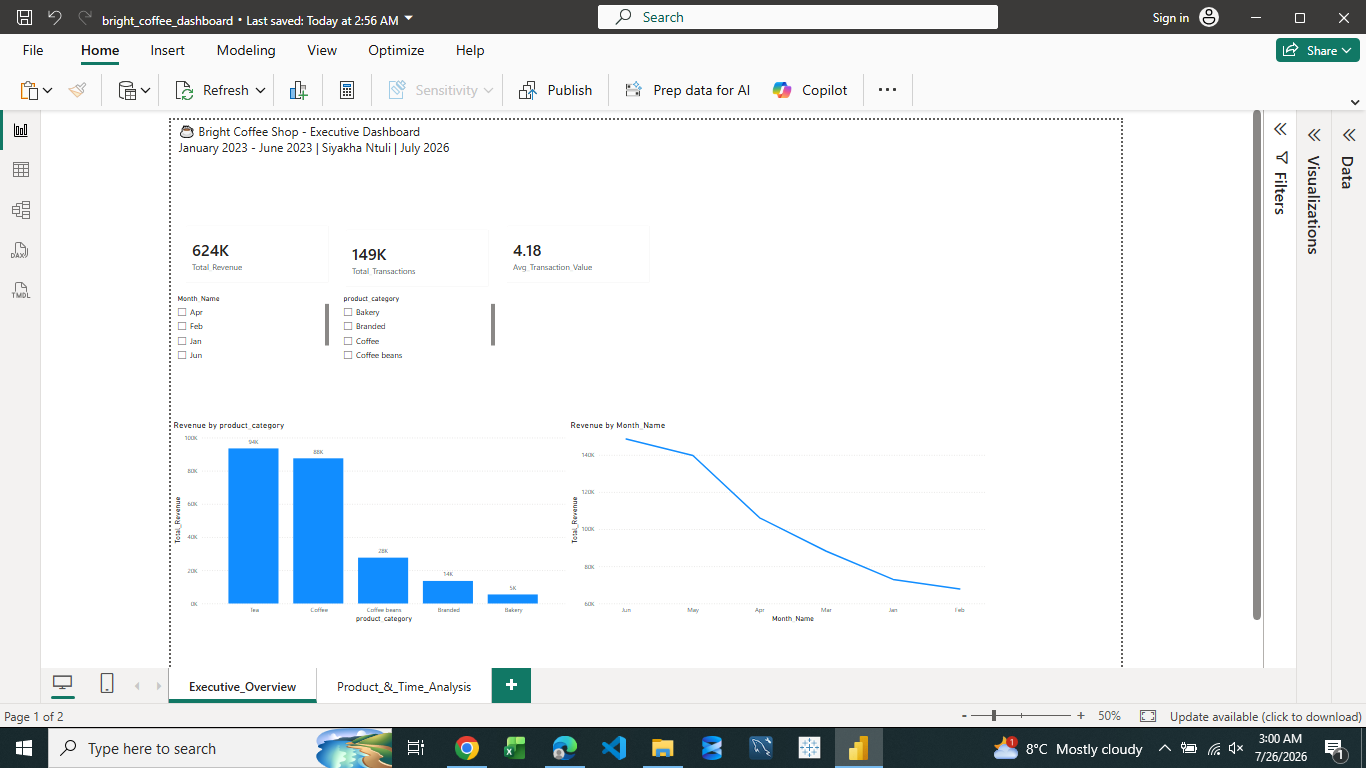

The dashboard page shown, as its layout file describes it:
{"tool":"powerbi","page":{"name":"Executive_Overview","canvas":[1900,1200],"ordinal":0},"visuals":[{"type":"textbox","box":[10.1,0,1269.9,107.5],"z":0},{"type":"cardVisual","fields":{"Data":["coffee_sales_cleaned.Total_Revenue"]},"box":[11.3,194.5,321.2,149.3],"z":1},{"type":"cardVisual","fields":{"Data":["coffee_sales_cleaned.Total_Transactions"]},"box":[332.5,201.3,321.2,149.3],"z":2},{"type":"cardVisual","fields":{"Data":["coffee_sales_cleaned.Avg_Transaction_Value","coffee_sales_cleaned.Avg_Transaction_Value"]},"box":[653.7,194.5,321.2,149.3],"z":3},{"type":"slicer","fields":{"Values":["coffee_sales_cleaned.Month_Name"]},"box":[0,343.8,321.2,149.3],"z":4},{"type":"slicer","fields":{"Values":["coffee_sales_cleaned.product_category"]},"box":[332.5,343.8,321.2,149.3],"z":5},{"type":"clusteredColumnChart","title":"Revenue by product_category","fields":{"Category":["coffee_sales_cleaned.product_category"],"Y":["coffee_sales_cleaned.Total_Revenue"]},"box":[0,600,794,410],"z":6},{"type":"lineChart","title":"Revenue by Month_Name","fields":{"Category":["coffee_sales_cleaned.Month_Name"],"Y":["coffee_sales_cleaned.Total_Revenue"]},"box":[794,600,842,410],"z":7}]}

Visuals, with their boxes on the page's 1900x1200 design canvas (x1, y1, x2, y2). These are canvas units, not pixel positions in the 1366x768 screenshot, which may show the page scaled, cropped or inside an application window:
textbox: 10,0,1280,108
cardVisual - coffee_sales_cleaned.Total_Revenue: 11,194,332,344
cardVisual - coffee_sales_cleaned.Total_Transactions: 332,201,654,351
cardVisual - coffee_sales_cleaned.Avg_Transaction_Value x coffee_sales_cleaned.Avg_Transaction_Value: 654,194,975,344
slicer - coffee_sales_cleaned.Month_Name: 0,344,321,493
slicer - coffee_sales_cleaned.product_category: 332,344,654,493
"Revenue by product_category" clusteredColumnChart: 0,600,794,1010
"Revenue by Month_Name" lineChart: 794,600,1636,1010
